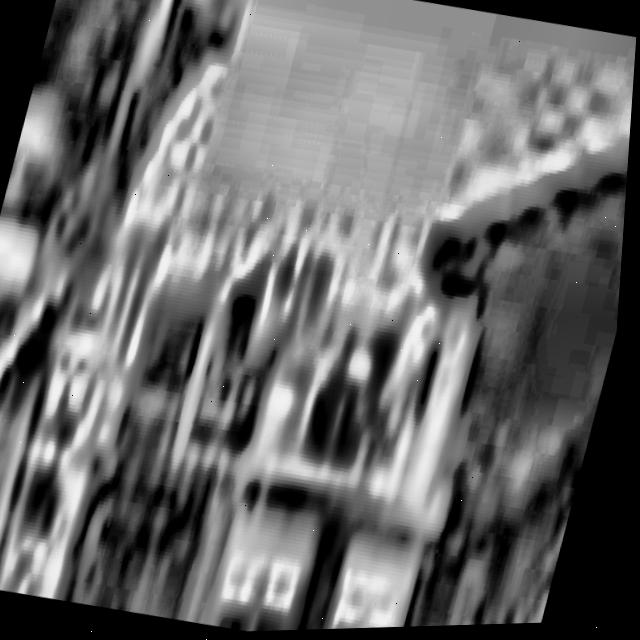dump_truck: (392, 23, 638, 630), (0, 0, 238, 606)
